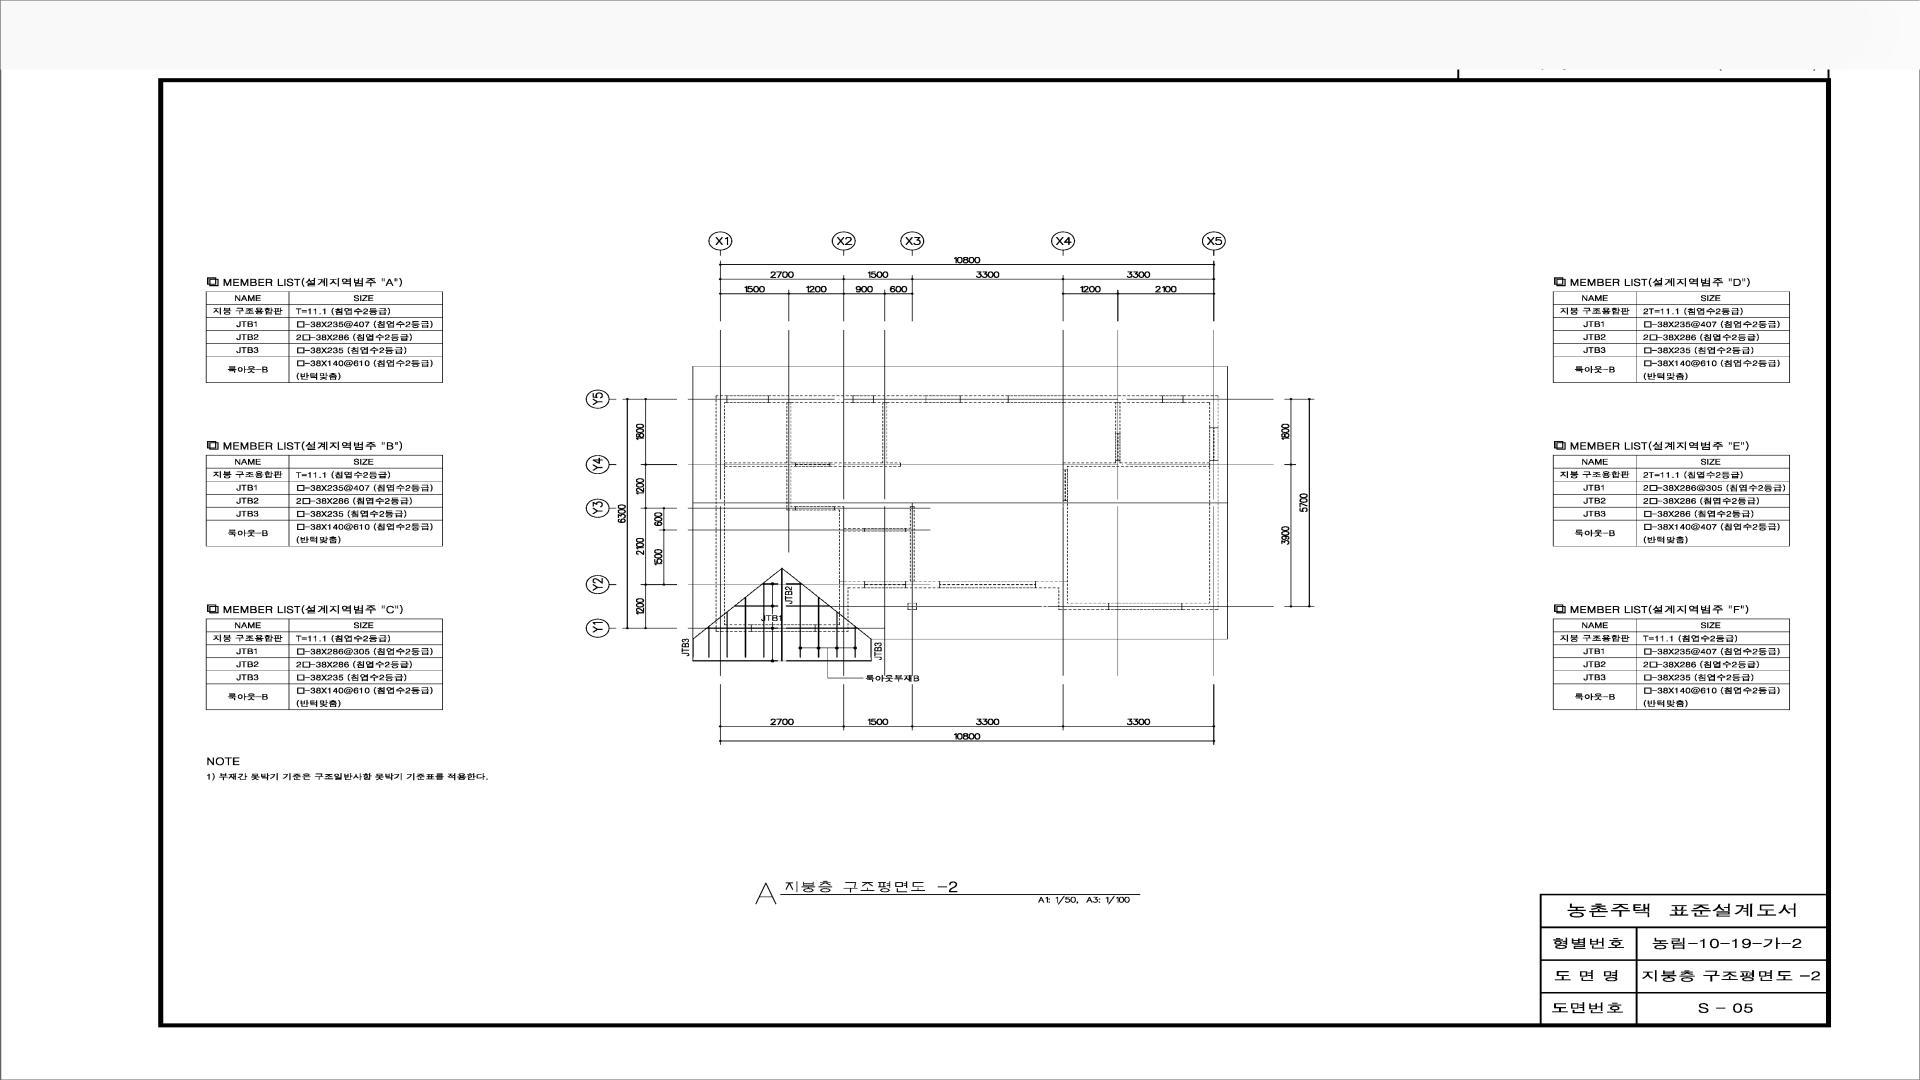wall: (716, 396, 752, 632), (724, 404, 795, 510), (1182, 460, 1218, 611), (829, 404, 901, 467), (815, 582, 865, 632), (1035, 582, 1109, 609), (1063, 460, 1209, 469), (1183, 396, 1218, 427), (1063, 396, 1162, 404), (835, 506, 844, 582), (769, 396, 853, 404), (906, 506, 914, 582), (1009, 396, 1063, 404), (1063, 501, 1068, 582), (874, 396, 926, 404), (906, 582, 940, 588), (1116, 402, 1121, 433), (844, 527, 865, 531)
